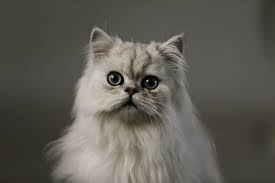cat: (71, 22, 197, 143)
